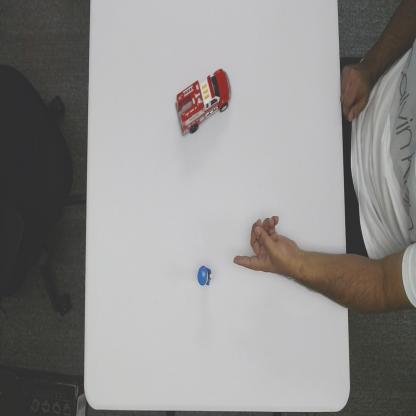Arm: (300, 247, 346, 308)
Firetruck: (174, 66, 232, 138)
Hand: (233, 213, 298, 284)
